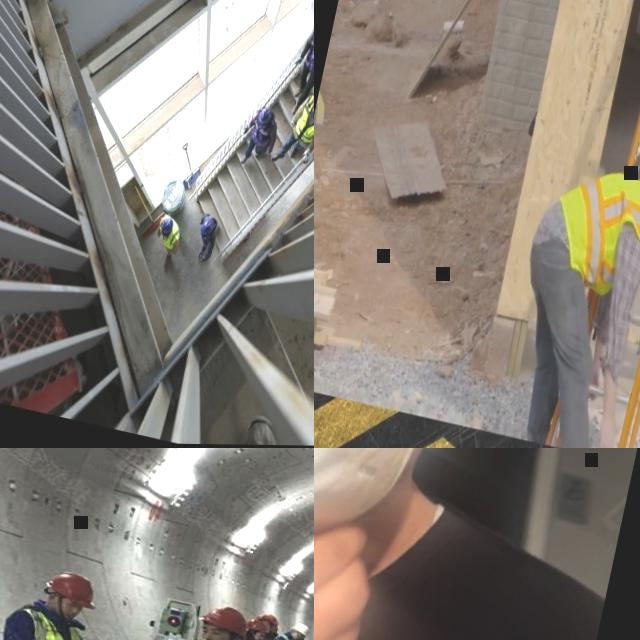helmet: (43, 568, 103, 610), (202, 601, 254, 640), (245, 618, 272, 634), (256, 105, 272, 128), (288, 620, 311, 636), (200, 218, 216, 238), (160, 217, 174, 238), (263, 612, 281, 624)
mask: (314, 448, 457, 568), (295, 634, 306, 640)
no_mask: (54, 606, 80, 622), (200, 635, 225, 640), (254, 634, 263, 640)
no_vest: (314, 448, 570, 640), (263, 633, 279, 640)
person: (314, 448, 640, 640), (493, 135, 640, 448), (0, 559, 108, 640), (270, 88, 314, 172), (236, 104, 282, 171), (285, 18, 314, 121), (151, 213, 185, 268), (237, 610, 289, 640), (192, 212, 220, 266), (239, 617, 278, 640)
vest: (545, 161, 640, 296), (1, 605, 96, 640), (293, 92, 314, 146), (156, 214, 184, 252), (252, 108, 278, 144), (304, 25, 314, 75)
